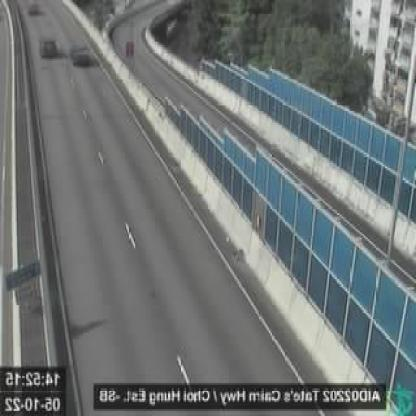Car: (68, 41, 91, 66), (39, 36, 61, 58)
